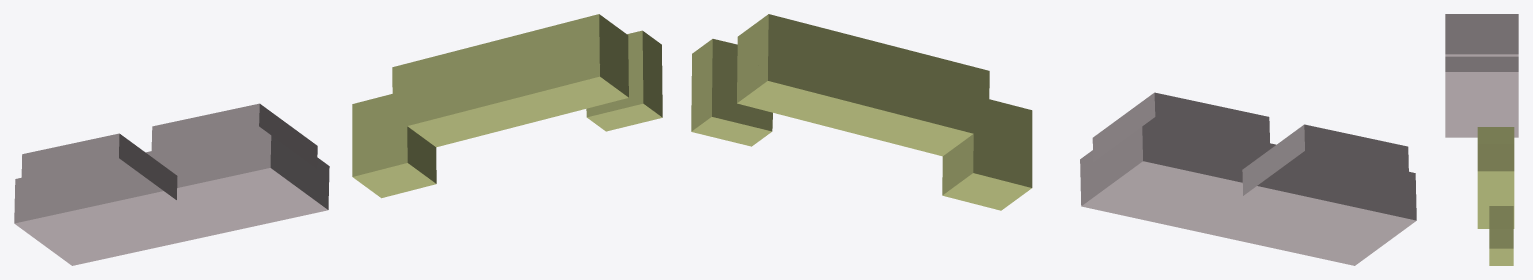
3 views of the same model, side by side, from view 1: azimuth 30°, elevation 25°; view 2: azimuth 150°, elevation 25°; view 3: azimuth 270°, elevation 25° (orthographic). The views are drawn at different scales.
Parts seen in each view (by area): view 1: 0_3_2_0_2_2_1_1; view 2: 0_3_2_0_2_2_1_1; view 3: 0_3_2_0_2_2_1_1.
Part boxes in pixels (x1,y1,x2,y2): 0_3_2_0_2_2_1_1: (14, 14, 662, 265); 0_3_2_0_2_2_1_1: (691, 14, 1416, 265); 0_3_2_0_2_2_1_1: (1445, 14, 1518, 265).
Bounding box in the file's own units: 112 × 17.62 × 18.
